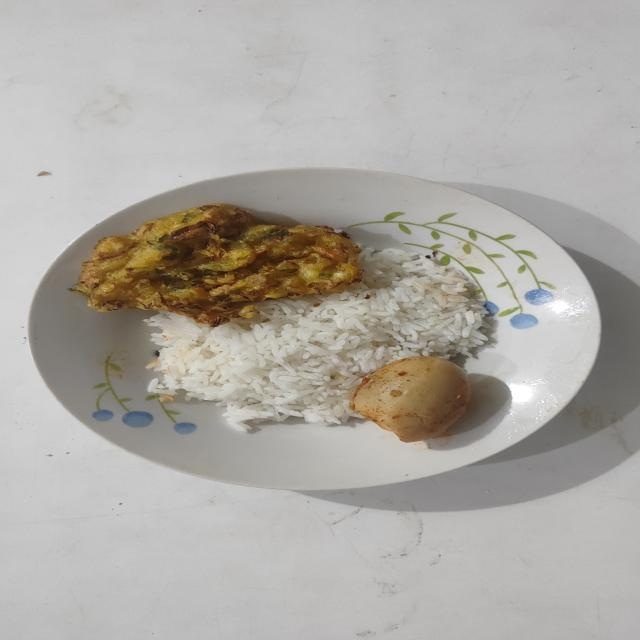nasi_putih: (146, 248, 492, 431)
